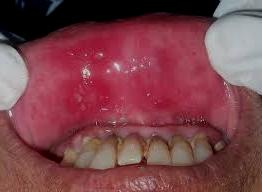Caries: (133, 132, 160, 154), (80, 133, 102, 154), (108, 130, 129, 151), (159, 134, 183, 152), (182, 134, 206, 149)
Ulcer: (64, 52, 108, 89)
